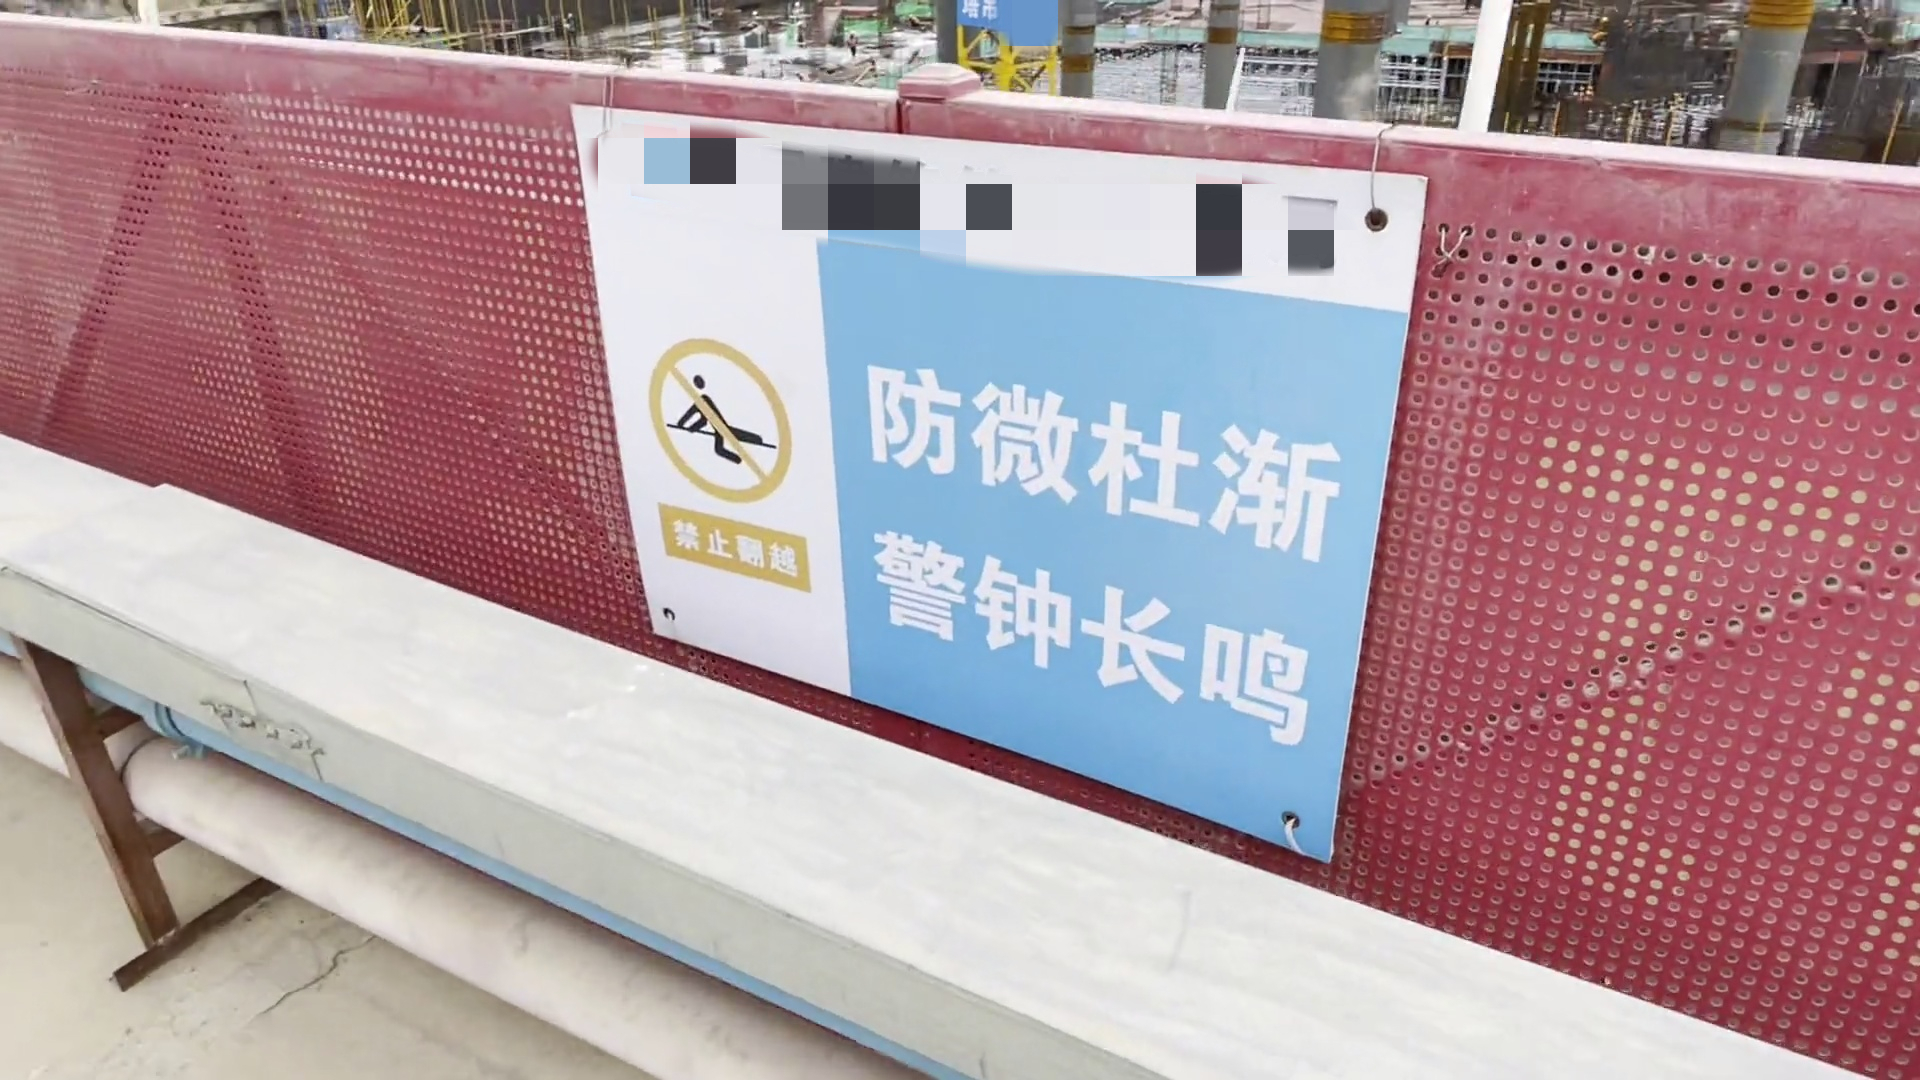slogan: (571, 91, 1402, 877)
